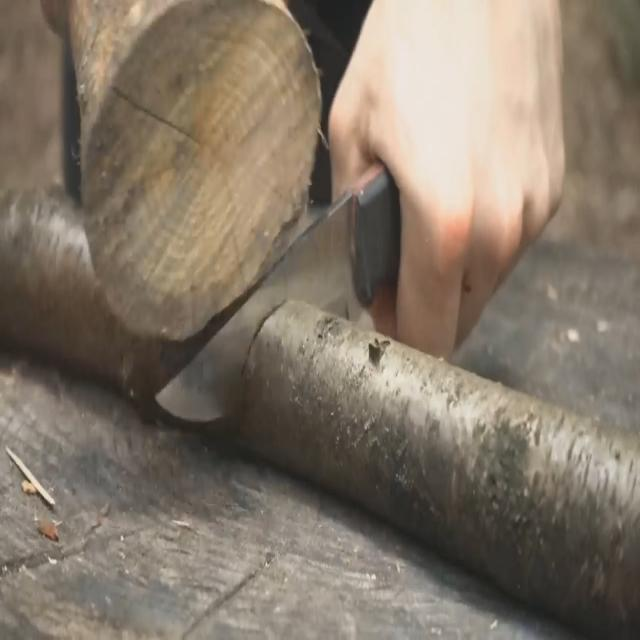knife: (152, 149, 410, 424)
